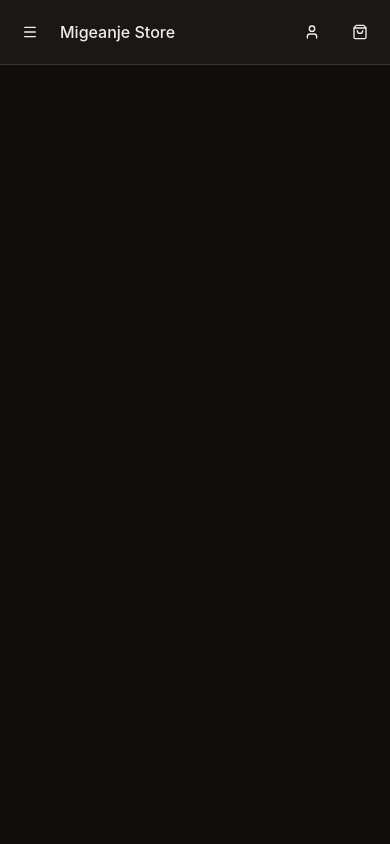
SiteHeader › shows the current query in the mobile menu too
What coordinates should you click on to do the following:
click the button named "Abrir menú"
I would click on:
 (30, 32)
Its box is [8,10,52,54].
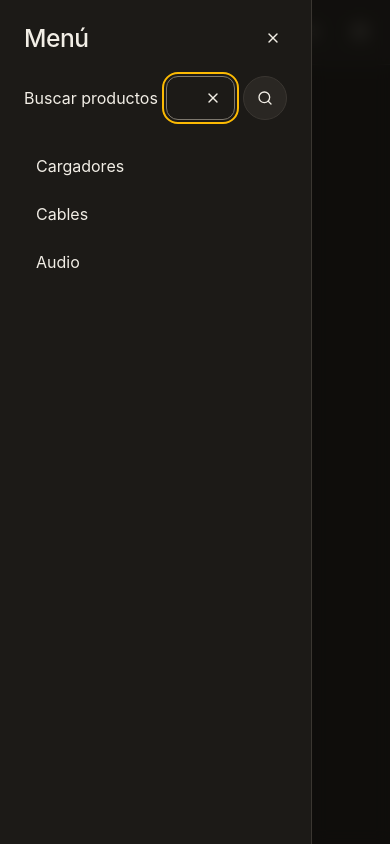
Result: the search field holds "hub" at [166,76,235,120]
